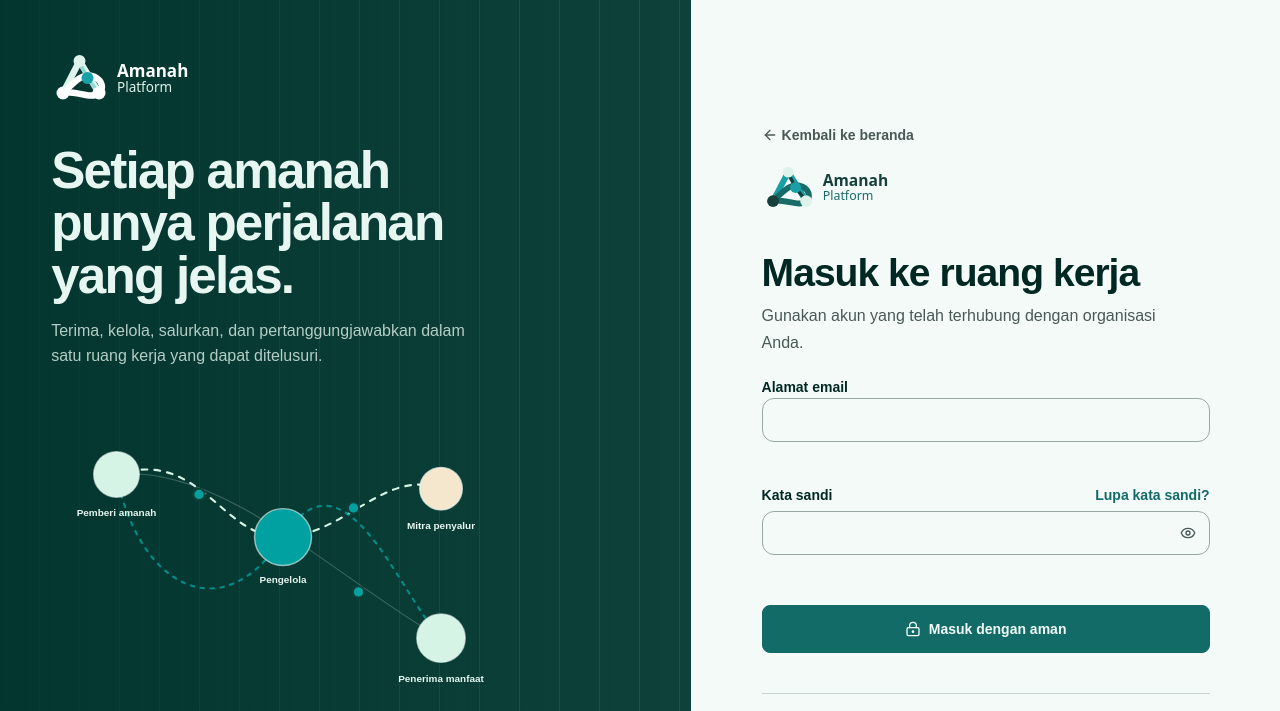
LoginPage › mempertahankan pesan penolakan dari auth provider
In the field labelled "Alamat email": (986, 420) x1=762 y1=398 x2=1210 y2=442, type "owner@example.org"
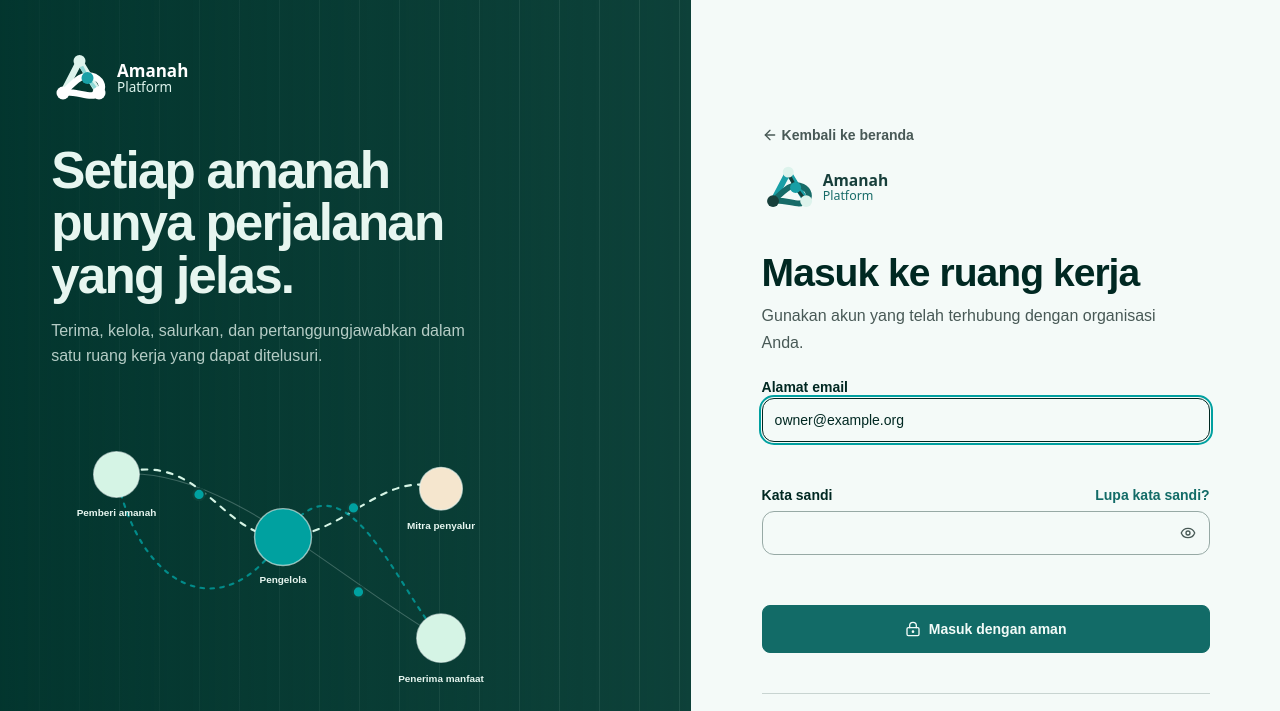
In the password field labelled "Kata sandi": (986, 533) x1=762 y1=511 x2=1210 y2=555, type "password-ku"
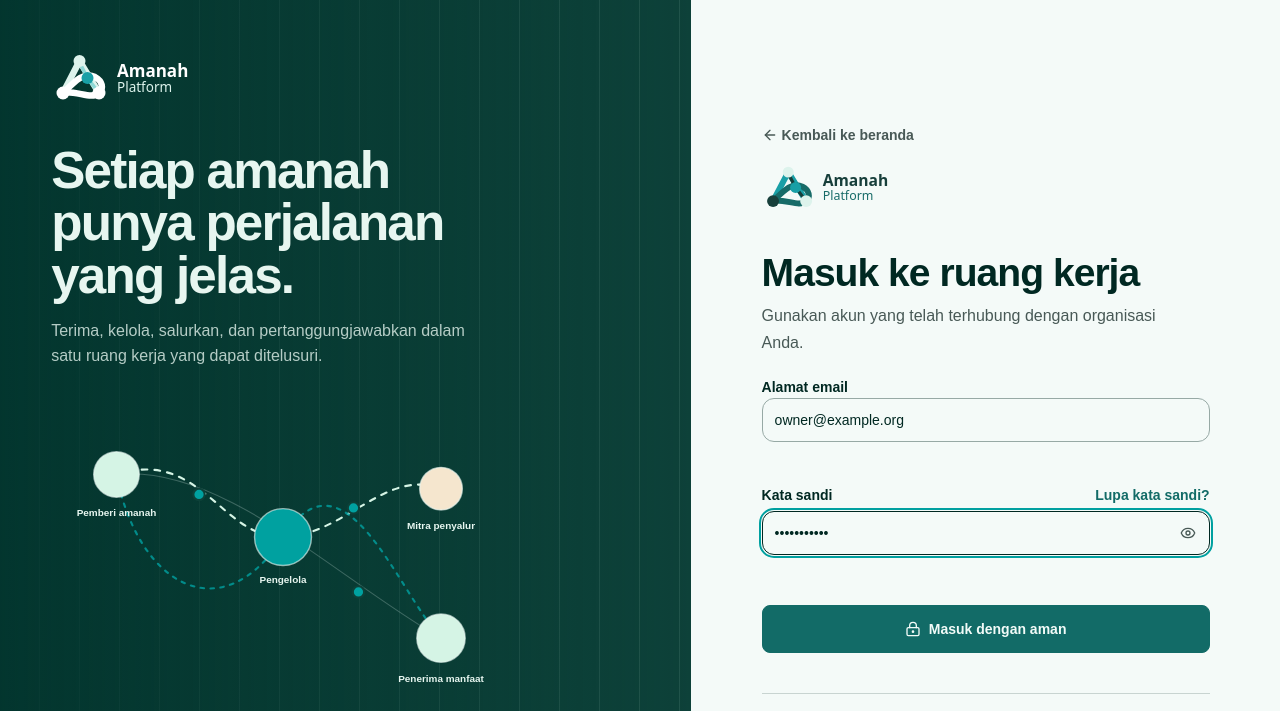
Click the button "Masuk dengan aman": click(986, 629) x1=762 y1=605 x2=1210 y2=653
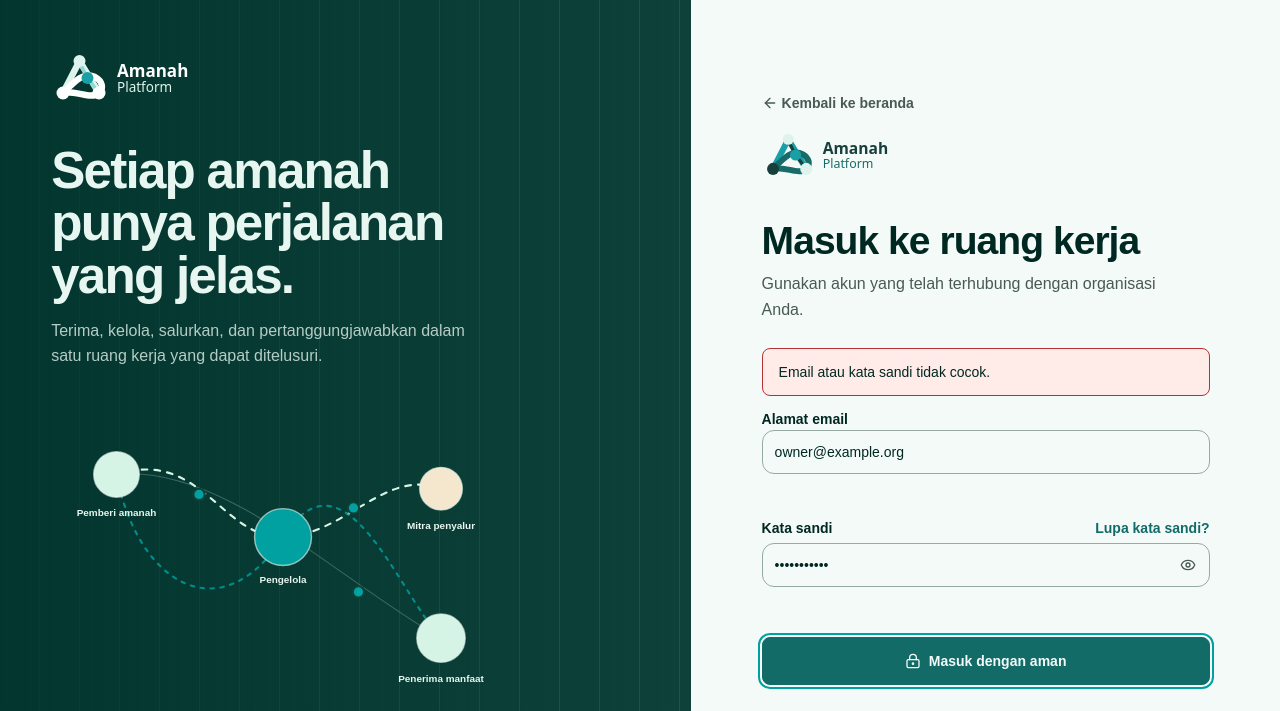
Result: the message reads "Email atau kata sandi tidak cocok." at x1=779 y1=364 x2=990 y2=380
